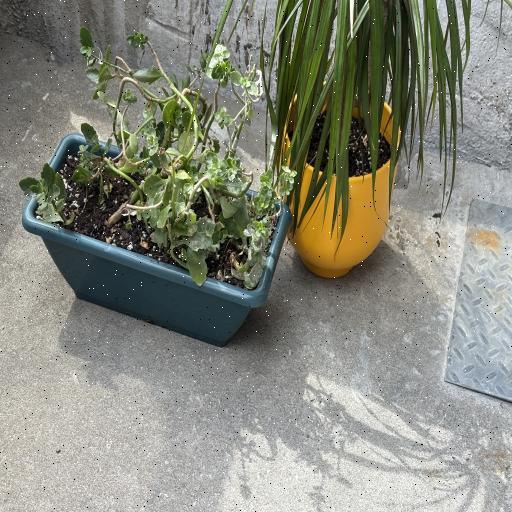Plant Pot: (279, 90, 400, 278)
